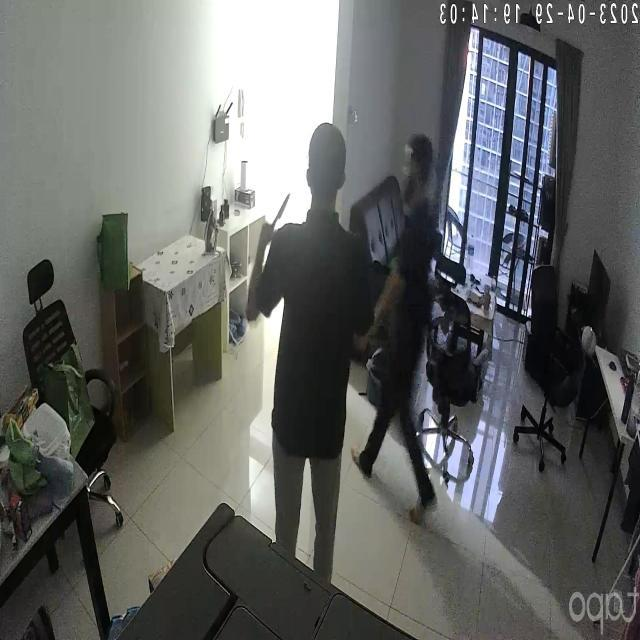Knife: (264, 191, 295, 229)
